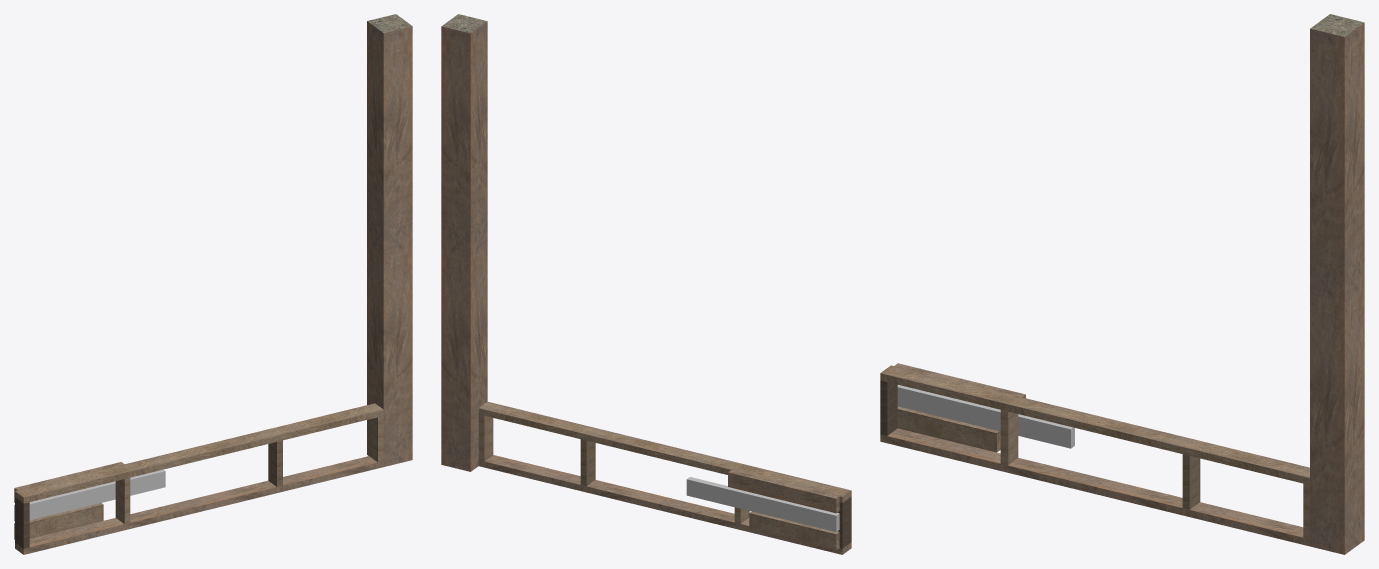
The model's file is WallFloorDividerDestroyE.fbx.
3 renders of one model, left to right at view 1: azimuth 30°, elevation 25°; view 2: azimuth 150°, elevation 25°; view 3: azimuth 330°, elevation 25°, orthographic. The views are drawn at different scales.
Parts seen in each view (by area): view 1: WallFloorDividerDestroyE; view 2: WallFloorDividerDestroyE; view 3: WallFloorDividerDestroyE.
Boxes of the visible parts, <box> form: WallFloorDividerDestroyE: <box>14,14,412,554</box>; WallFloorDividerDestroyE: <box>441,14,851,554</box>; WallFloorDividerDestroyE: <box>880,14,1364,554</box>.
Size of the model in its own units: 404 by 431 by 30.09.
